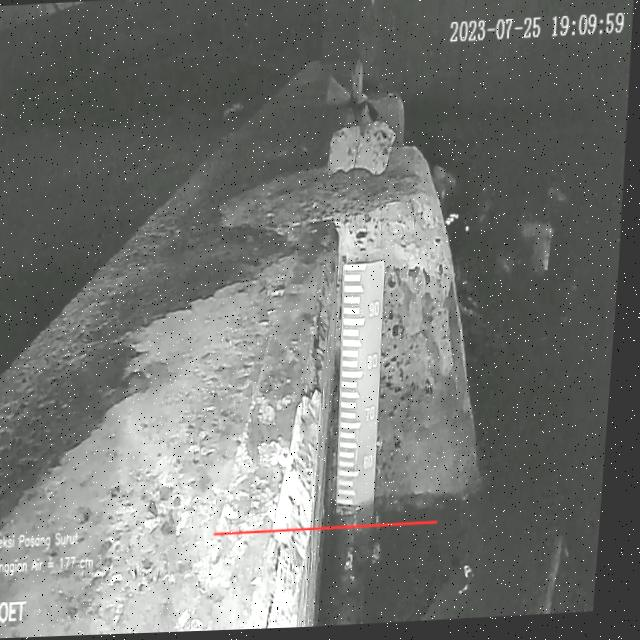water-meter: (318, 247, 398, 540)
